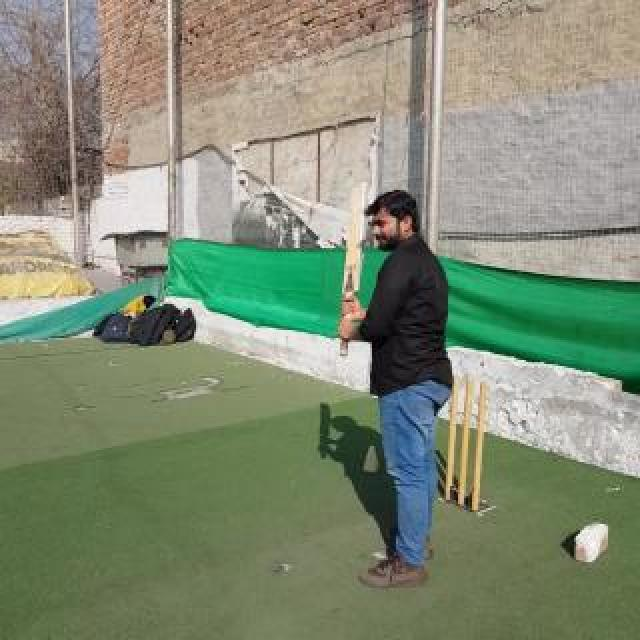bat: (339, 182, 369, 356)
